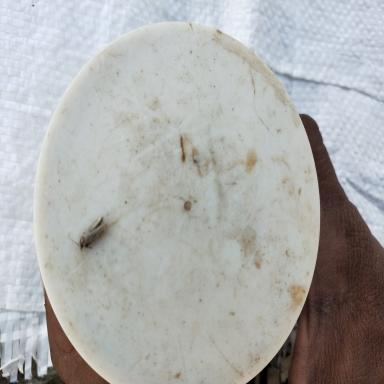pbw: (68, 214, 109, 253)
